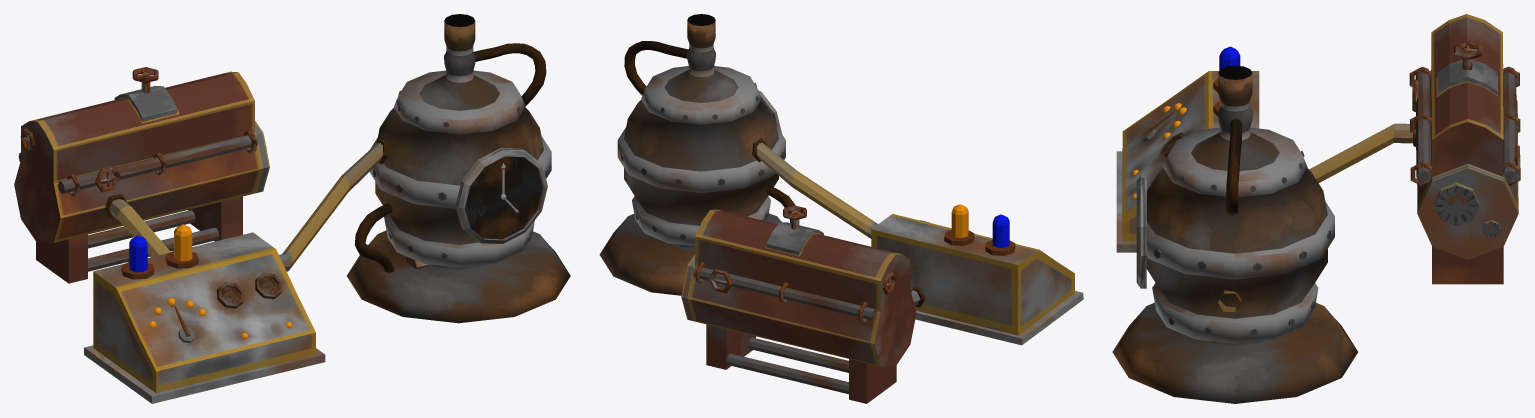
Rendered from All.fbx.
3 renders of one model, left to right at view 1: azimuth 30°, elevation 25°; view 2: azimuth 150°, elevation 25°; view 3: azimuth 270°, elevation 25°, orthographic. The views are drawn at different scales.
Parts seen in each view (by area): view 1: Base, Cylinder, Cube, Anzeige, Cylinder.029, Cylinder.009, Rohr, Cylinder.028, Cylinder.005, Rohr.001, Cylinder.007, Cylinder.027 (+4 smaller); view 2: Base, Cylinder, Cube, Cylinder.029, Cylinder.008, Cylinder.005, Cylinder.007, Rohr, Cylinder.027, Cylinder.026, Cylinder.001, Cylinder.002; view 3: Base, Cylinder, Cube, Cylinder.001, Cylinder.028, Cylinder.009, Cylinder.003, Cylinder.008, Anzeige, Rohr, Cylinder.002, Cylinder.026.
Part boxes in pixels (left/top/right/bottom): Base: left=347, top=14, right=570, bottom=323; Cylinder: left=14, top=71, right=260, bottom=283; Cube: left=84, top=232, right=325, bottom=403; Anzeige: left=455, top=148, right=547, bottom=243; Cylinder.029: left=279, top=140, right=383, bottom=271; Cylinder.009: left=58, top=134, right=258, bottom=193; Rohr: left=473, top=43, right=546, bottom=106; Cylinder.028: left=109, top=199, right=170, bottom=256; Cylinder.005: left=88, top=210, right=195, bottom=248; Rohr.001: left=354, top=203, right=394, bottom=272; Cylinder.007: left=88, top=227, right=219, bottom=271; Cylinder.027: left=174, top=224, right=192, bottom=261; Base: left=599, top=14, right=785, bottom=295; Cylinder: left=689, top=209, right=916, bottom=403; Cube: left=871, top=214, right=1083, bottom=345; Cylinder.029: left=756, top=140, right=877, bottom=238; Cylinder.008: left=693, top=266, right=876, bottom=320; Cylinder.005: left=726, top=353, right=848, bottom=394; Cylinder.007: left=748, top=337, right=848, bottom=372; Rohr: left=624, top=41, right=688, bottom=95; Cylinder.027: left=951, top=204, right=968, bottom=237; Cylinder.026: left=992, top=214, right=1009, bottom=247; Cylinder.001: left=681, top=254, right=694, bottom=321; Cylinder.002: left=621, top=83, right=783, bottom=239; Base: left=1112, top=65, right=1357, bottom=403; Cylinder: left=1417, top=14, right=1518, bottom=284; Cube: left=1116, top=71, right=1259, bottom=252; Cylinder.001: left=1417, top=164, right=1518, bottom=259; Cylinder.028: left=1309, top=123, right=1412, bottom=182; Cylinder.009: left=1415, top=67, right=1430, bottom=183; Cylinder.003: left=1434, top=183, right=1479, bottom=226; Cylinder.008: left=1503, top=66, right=1516, bottom=183; Anzeige: left=1136, top=175, right=1146, bottom=288; Rohr: left=1226, top=119, right=1241, bottom=216; Cylinder.002: left=1154, top=151, right=1330, bottom=336; Cylinder.026: left=1219, top=46, right=1240, bottom=70.
Size of the model in its own units: 2293 by 1224 by 1613.
